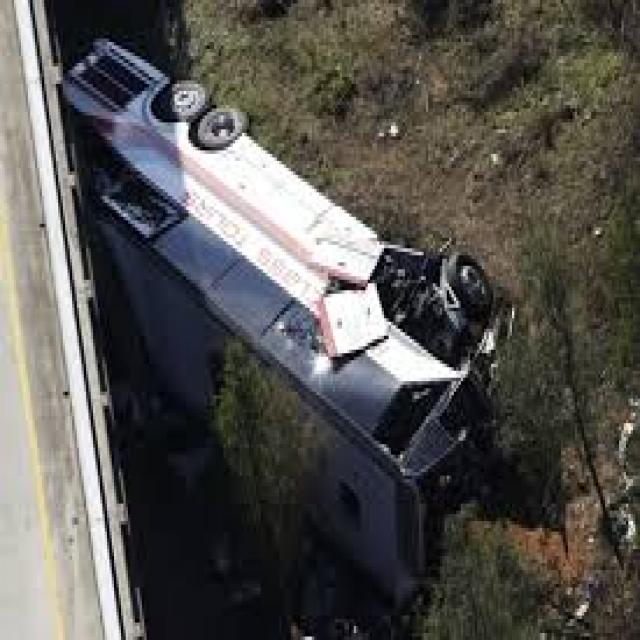accident: (64, 18, 552, 605)
